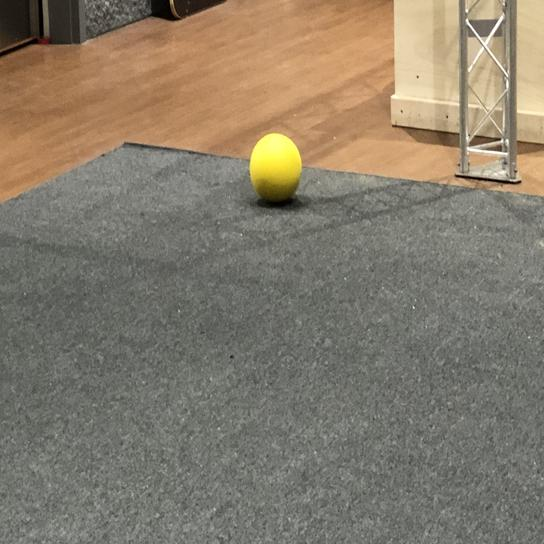ball: (246, 131, 304, 207)
